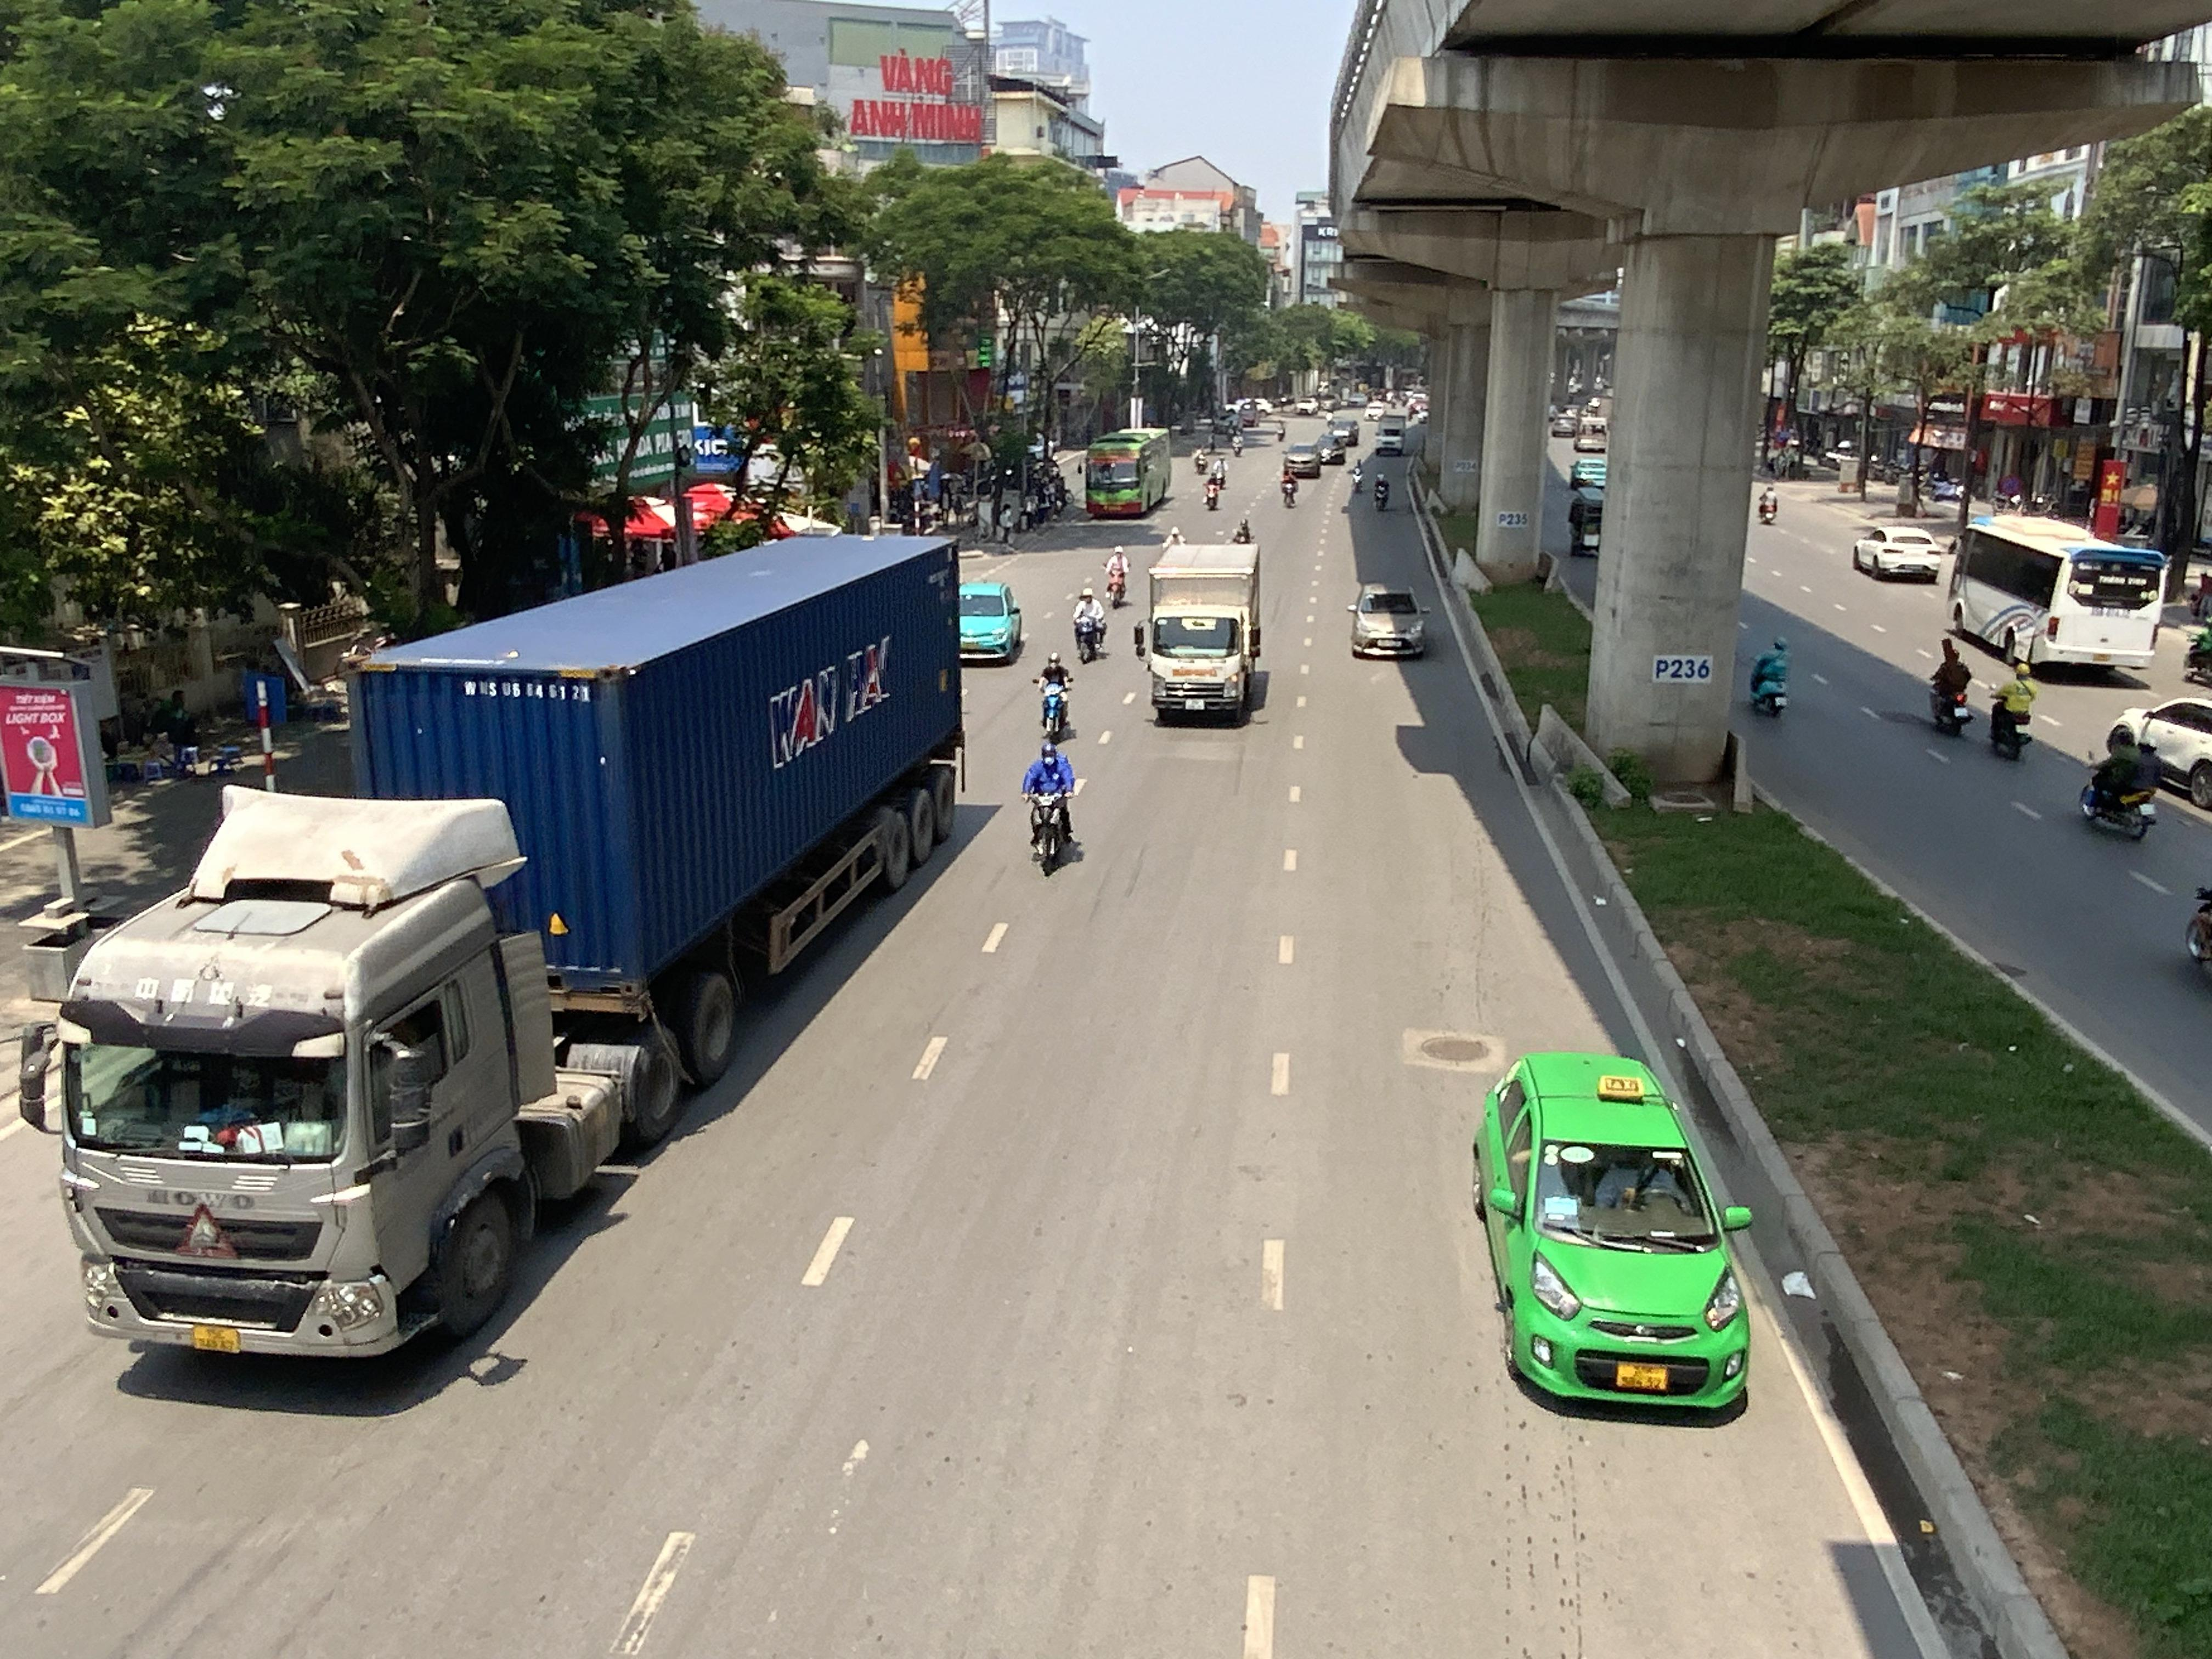BSV: (1616, 1361, 1670, 1391), (192, 1323, 239, 1354)
bus: (1946, 511, 2167, 680), (1083, 425, 1174, 518)
car: (1470, 1051, 1757, 1422), (2111, 694, 2212, 807), (1348, 587, 1430, 659), (960, 579, 1026, 664), (1853, 523, 1942, 582), (1280, 443, 1320, 477), (1315, 434, 1348, 467)
motorbike: (2080, 723, 2160, 840), (1022, 739, 1082, 877), (1987, 662, 2036, 762), (1926, 643, 1973, 737), (2184, 857, 2212, 1007), (1035, 652, 1075, 742), (1749, 636, 1791, 718), (1073, 586, 1109, 662), (2181, 617, 2212, 688), (1104, 545, 1130, 610), (1280, 469, 1299, 509), (1202, 472, 1221, 511), (1372, 472, 1390, 511), (1350, 458, 1366, 493), (1212, 455, 1228, 490)
truck: (26, 526, 967, 1366), (1137, 544, 1268, 725)
